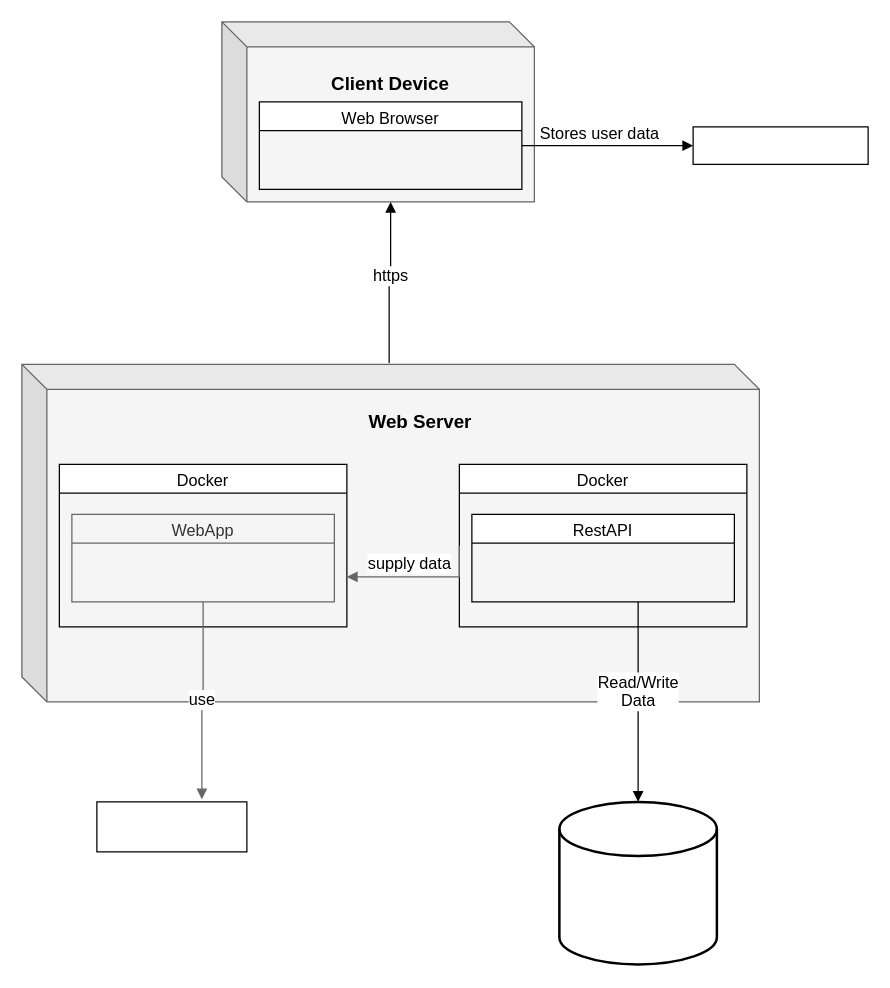
Some shapes in this 890 by 988 pixel diagram are drawn without their labels. The shapes that lost their labels are listed below. From the top down, each one's centre as x and y in pixels, then its label:
point (780, 145): SOLID POD
point (171, 826): Map API
point (638, 882): MongoDB
